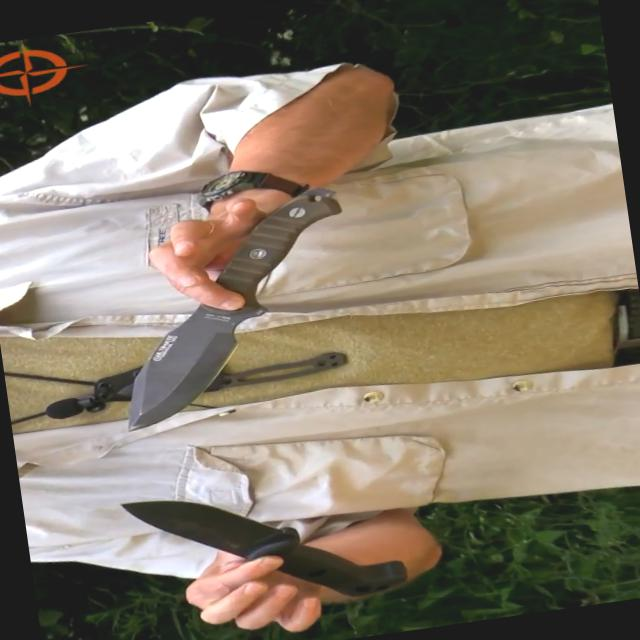knife: (87, 184, 377, 439), (108, 459, 414, 632)
